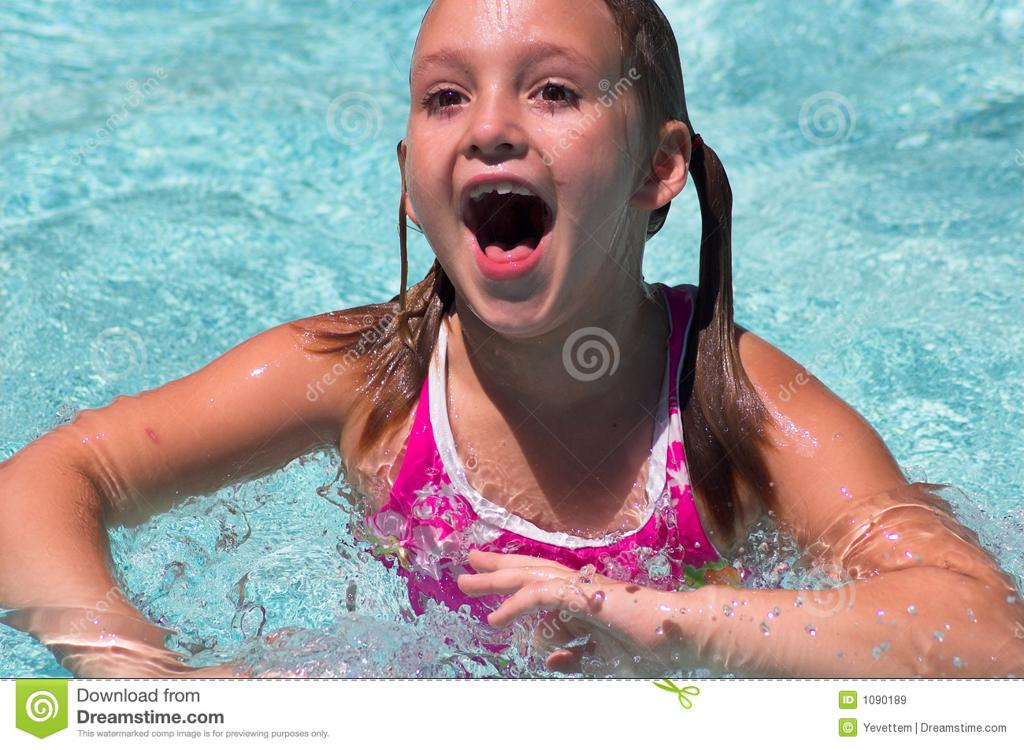face: (412, 22, 632, 336)
